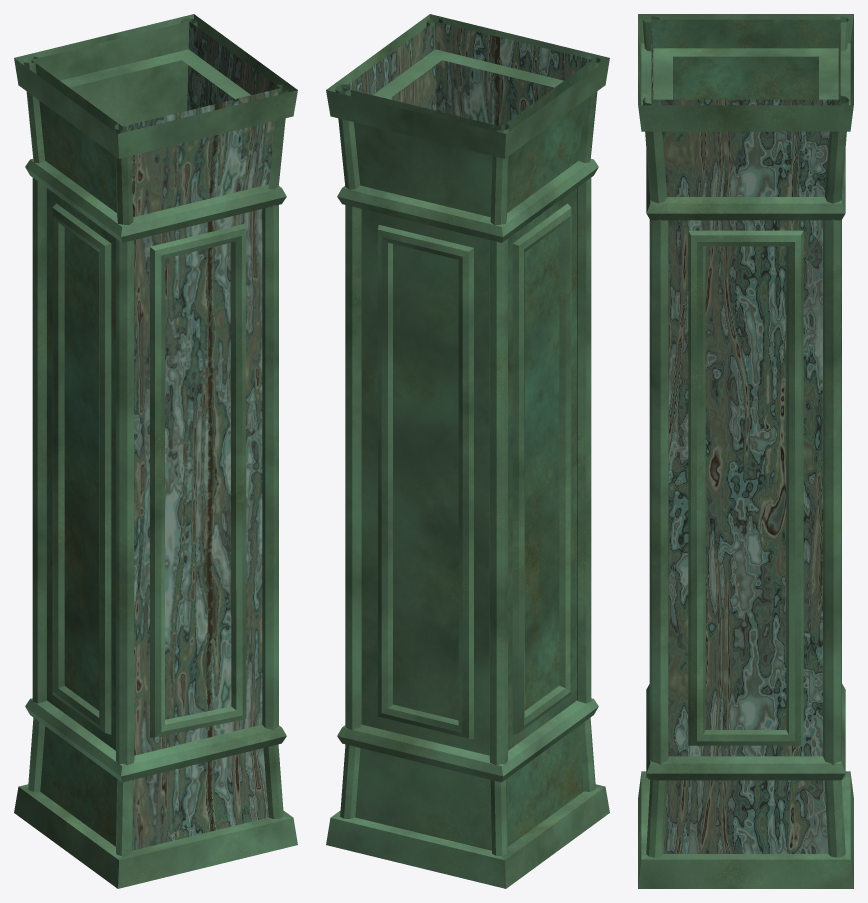
File: Pillar_UpperDeck.FBX
The picture shows the model from 3 angles, left to right: view 1: azimuth 30°, elevation 25°; view 2: azimuth 150°, elevation 25°; view 3: azimuth 270°, elevation 25°; orthographic projection. The views are drawn at different scales.
Parts seen in each view (by area): view 1: Box001; view 2: Box001; view 3: Box001.
Part boxes in pixels (x1,y1,x2,y2): Box001: (14, 14, 297, 888); Box001: (326, 14, 609, 888); Box001: (638, 14, 853, 888).
Size of the model in its own units: 74.87 by 300 by 74.87.
